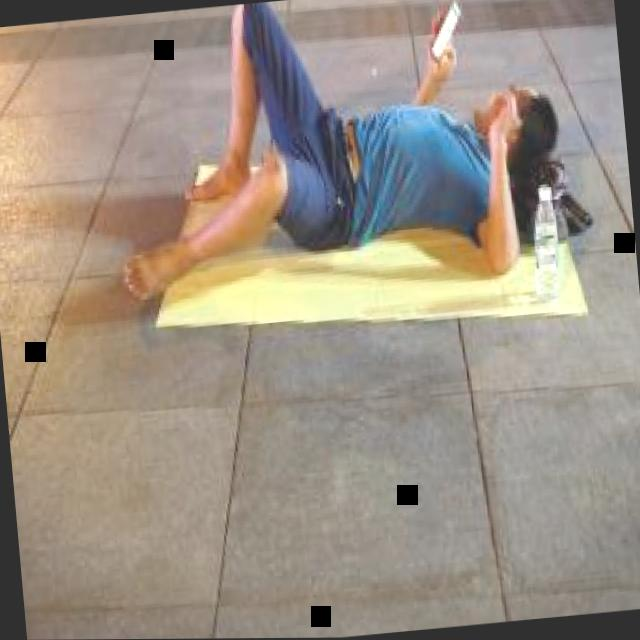Fall-Detected: (88, 0, 587, 308)
